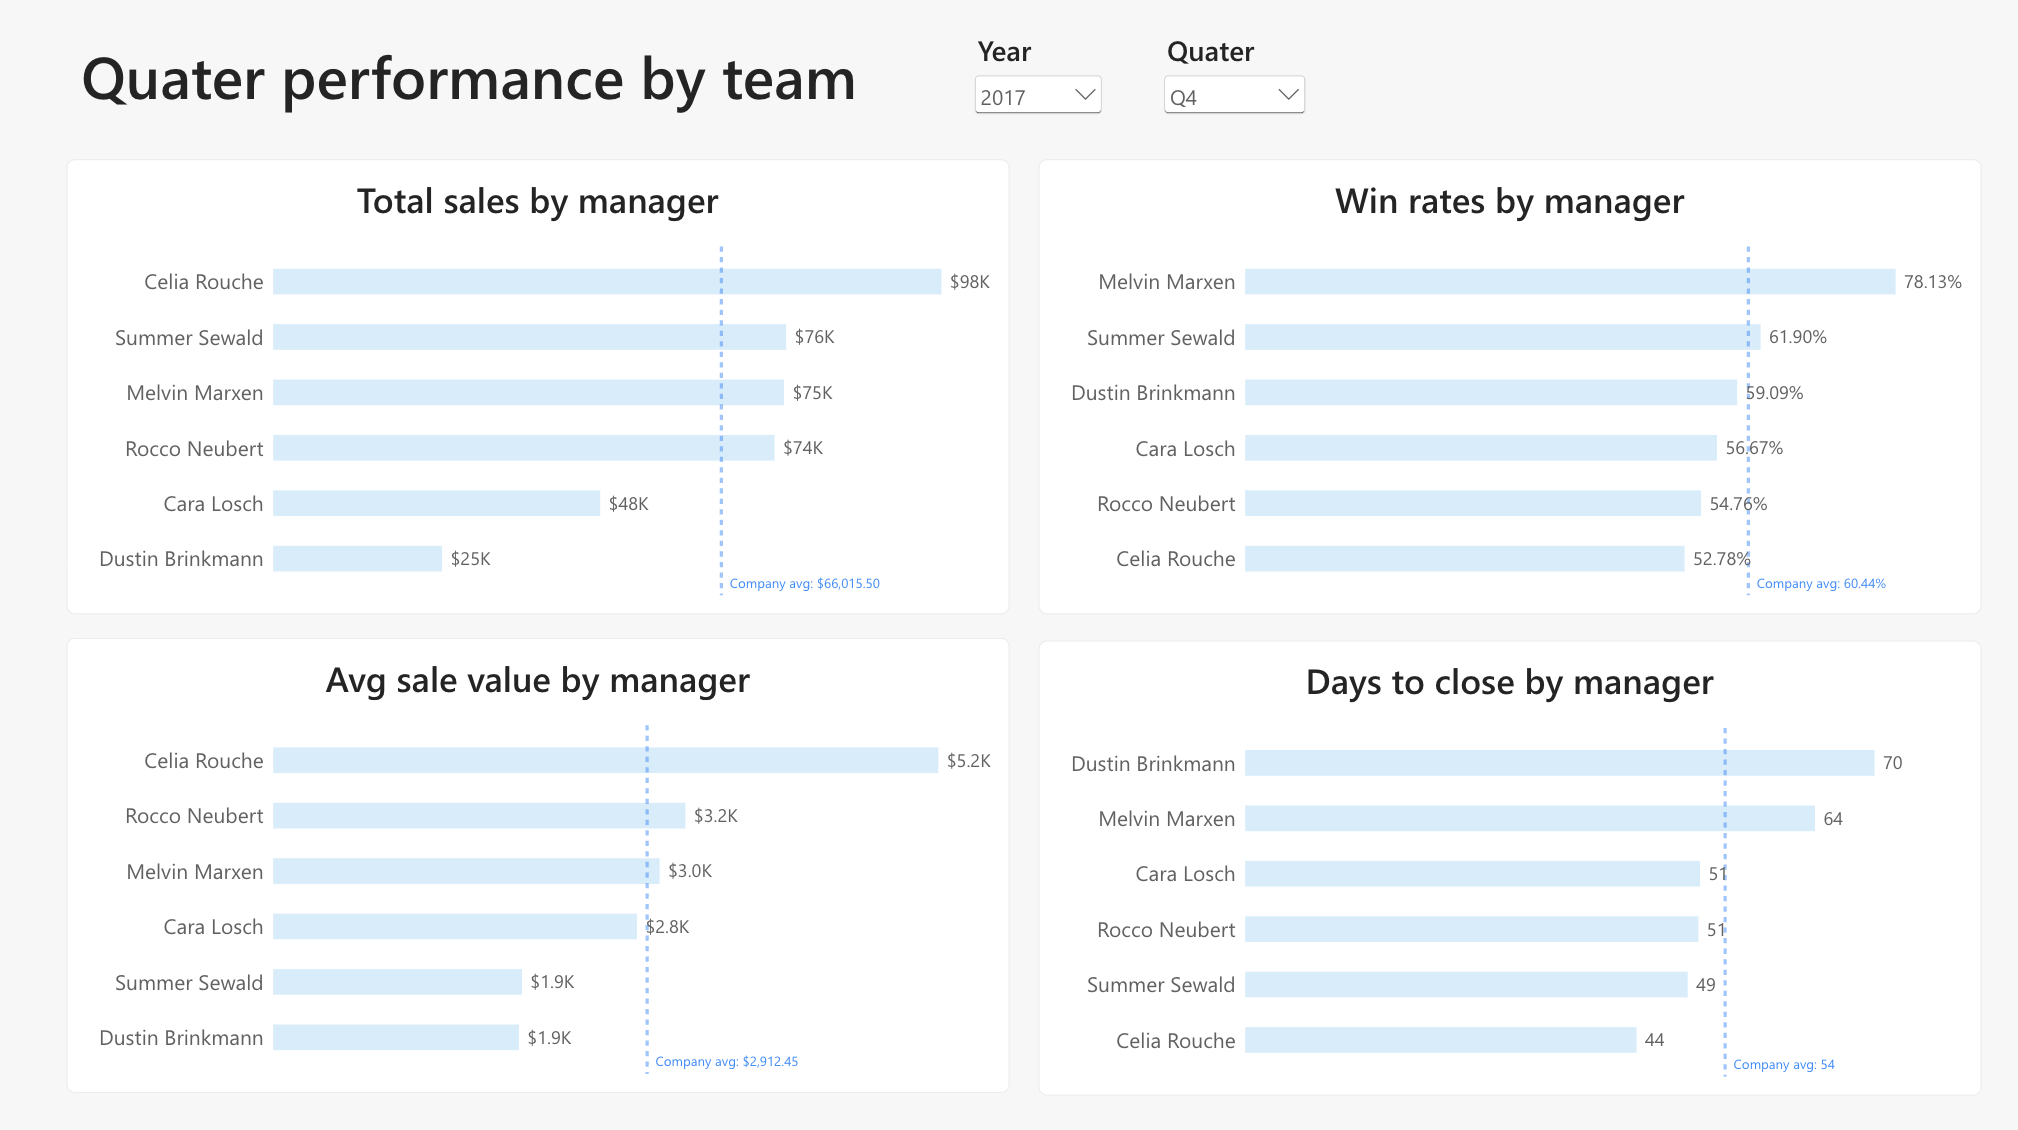

This screenshot's page, from the dashboard's own definition file:
{"tool":"powerbi","page":{"name":"Page 5","canvas":[1920,1080],"ordinal":4},"visuals":[{"type":"textbox","box":[77.8,35,799.3,103.1],"z":0},{"type":"slicer","fields":{"Values":["Calendar.Year"]},"box":[922.1,31.9,131.3,101.8],"z":1000},{"type":"slicer","fields":{"Values":["Calendar.Quarter"]},"box":[1102.8,31.9,144.4,101.8],"z":2000},{"type":"clusteredBarChart","title":"Total sales by manager","fields":{"Category":["sales_teams 1.manager"],"Y":["sales_pipeline 1.Won revenue"]},"box":[64.1,153.3,896.8,432.4],"z":3000},{"type":"clusteredBarChart","title":"Avg sale value by manager","fields":{"Category":["sales_teams 1.manager"],"Y":["sales_pipeline 1.Average Won Deal"]},"box":[64.1,608.5,896.8,432.4],"z":4000},{"type":"clusteredBarChart","title":"Win rates by manager","fields":{"Category":["sales_teams 1.manager"],"Y":["sales_pipeline 1.Win rate"]},"box":[988.3,153.3,896.8,432.4],"z":5000},{"type":"clusteredBarChart","title":"Days to close by manager","fields":{"Category":["sales_teams 1.manager"],"Y":["sales_pipeline 1.Avg Days to Close Won Deals"]},"box":[988.3,610.8,896.8,432.4],"z":6000}]}

Visuals, with their boxes in screenshot pixels (x1, y1, x2, y2), scaled from the page's 1920x1080 canvas onto the 2018x1130 screenshot:
textbox: <region>82, 37, 922, 144</region>
slicer - Calendar.Year: <region>969, 33, 1107, 140</region>
slicer - Calendar.Quarter: <region>1159, 33, 1311, 140</region>
"Total sales by manager" clusteredBarChart: <region>67, 160, 1010, 613</region>
"Avg sale value by manager" clusteredBarChart: <region>67, 637, 1010, 1089</region>
"Win rates by manager" clusteredBarChart: <region>1039, 160, 1981, 613</region>
"Days to close by manager" clusteredBarChart: <region>1039, 639, 1981, 1091</region>
